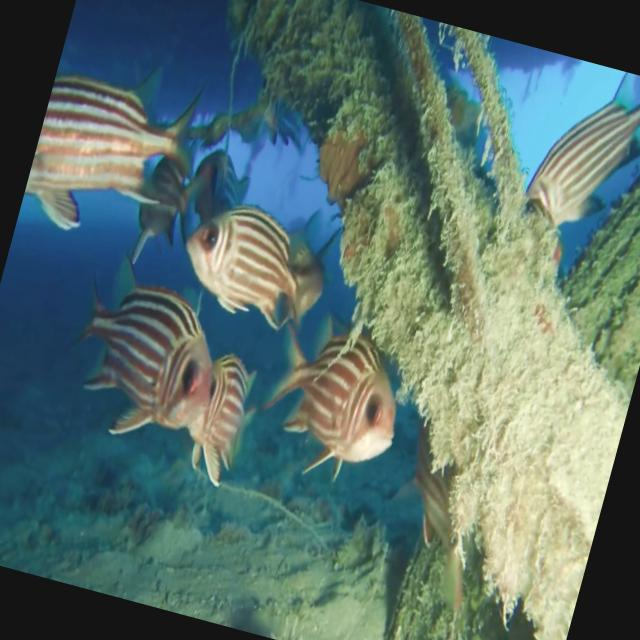Asker Baligi: (44, 252, 278, 490), (246, 306, 419, 496), (175, 192, 318, 327)
